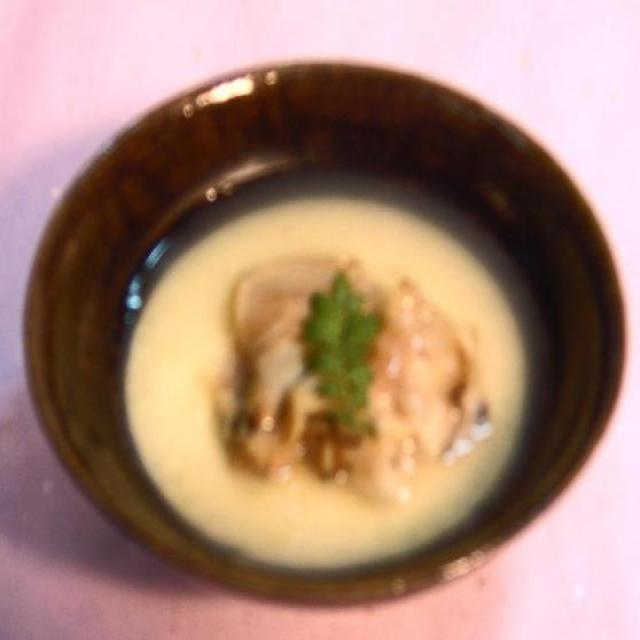鸡蛋料理: (88, 106, 580, 586)
